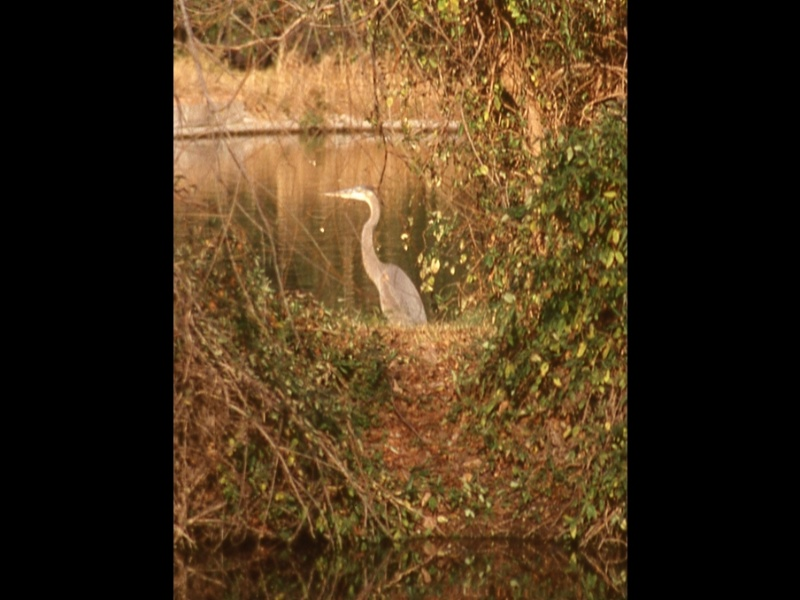heron: (323, 182, 426, 327)
